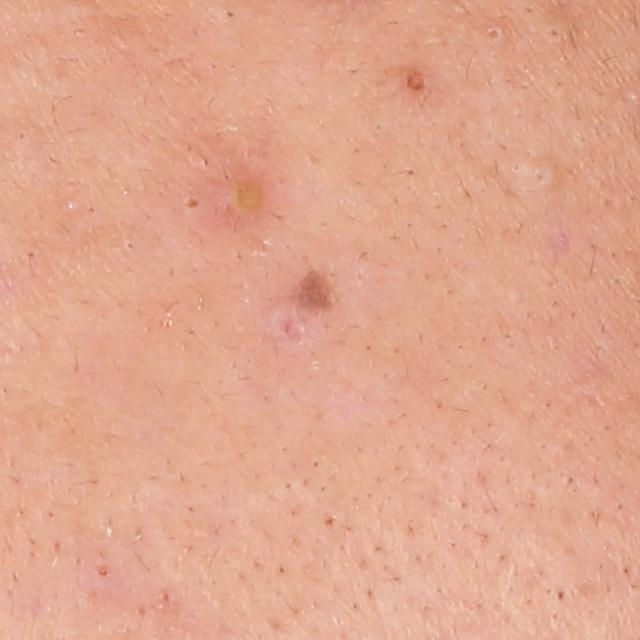comedo: (524, 161, 561, 193), (477, 23, 510, 45), (176, 188, 201, 213), (542, 22, 563, 49), (405, 68, 428, 91), (320, 511, 338, 532), (24, 248, 41, 263), (222, 7, 238, 22)
